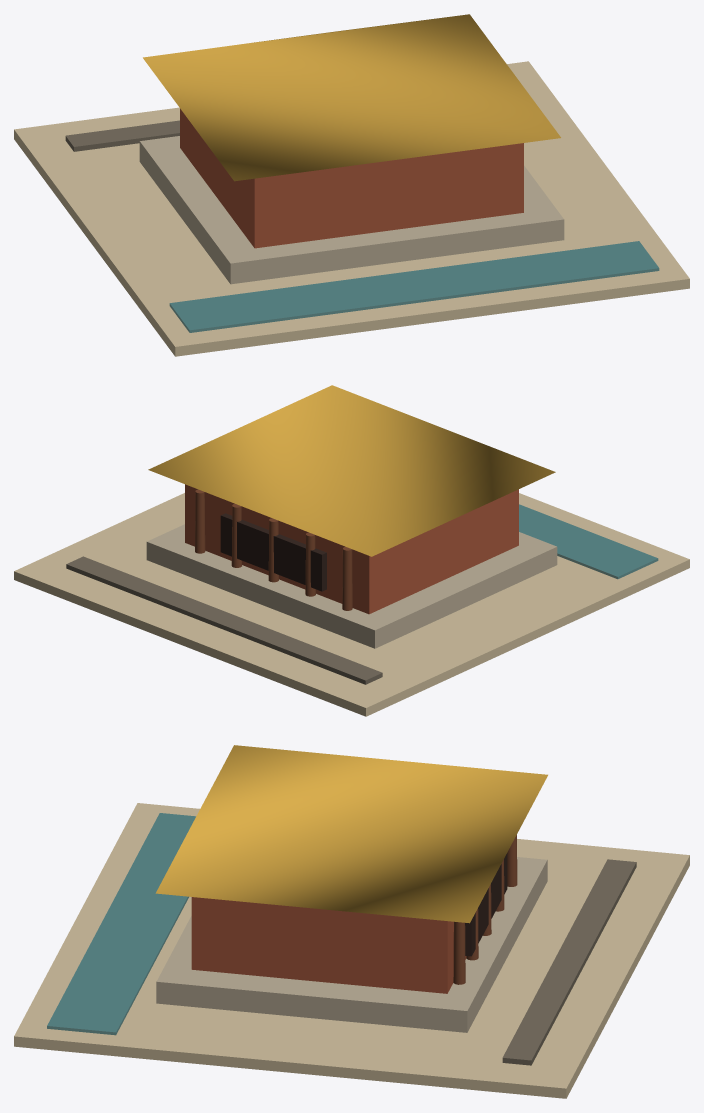
File: model-medium.glb
3 views of the same model, one above another, from view 1: azimuth 30°, elevation 25°; view 2: azimuth 150°, elevation 25°; view 3: azimuth 270°, elevation 25° (orthographic). The views are drawn at different scales.
Parts seen in each view (by area): view 1: context_site_plinth, sweeping_tiled_roof, main_hall_wall_volume, raised_ceremonial_platform, context_water_edge, front_scale_strip; view 2: context_site_plinth, sweeping_tiled_roof, raised_ceremonial_platform, main_hall_wall_volume, front_scale_strip, context_water_edge, central_shadow_door, front_column_1, front_column_5; view 3: context_site_plinth, sweeping_tiled_roof, main_hall_wall_volume, raised_ceremonial_platform, context_water_edge, front_scale_strip, central_shadow_door, front_column_5.
Part boxes in pixels (bbox=[...]): context_site_plinth: bbox=[14, 61, 689, 356]; sweeping_tiled_roof: bbox=[143, 14, 560, 181]; main_hall_wall_volume: bbox=[180, 108, 523, 248]; raised_ceremonial_platform: bbox=[139, 136, 564, 284]; context_water_edge: bbox=[169, 241, 659, 332]; front_scale_strip: bbox=[65, 120, 179, 151]; context_site_plinth: bbox=[14, 493, 689, 716]; sweeping_tiled_roof: bbox=[148, 385, 555, 556]; raised_ceremonial_platform: bbox=[146, 524, 557, 648]; main_hall_wall_volume: bbox=[185, 484, 518, 614]; front_scale_strip: bbox=[66, 556, 382, 684]; context_water_edge: bbox=[519, 504, 658, 579]; central_shadow_door: bbox=[220, 513, 326, 591]; front_column_1: bbox=[342, 546, 352, 610]; front_column_5: bbox=[195, 489, 205, 553]; context_site_plinth: bbox=[14, 803, 689, 1098]; sweeping_tiled_roof: bbox=[155, 745, 547, 923]; main_hall_wall_volume: bbox=[191, 897, 466, 993]; raised_ceremonial_platform: bbox=[156, 857, 547, 1032]; context_water_edge: bbox=[47, 813, 195, 1035]; front_scale_strip: bbox=[502, 859, 636, 1065]; central_shadow_door: bbox=[465, 853, 507, 956]; front_column_5: bbox=[453, 921, 465, 984].
Bounding box in the file's own units: 9.55 × 2.62 × 9.55.
